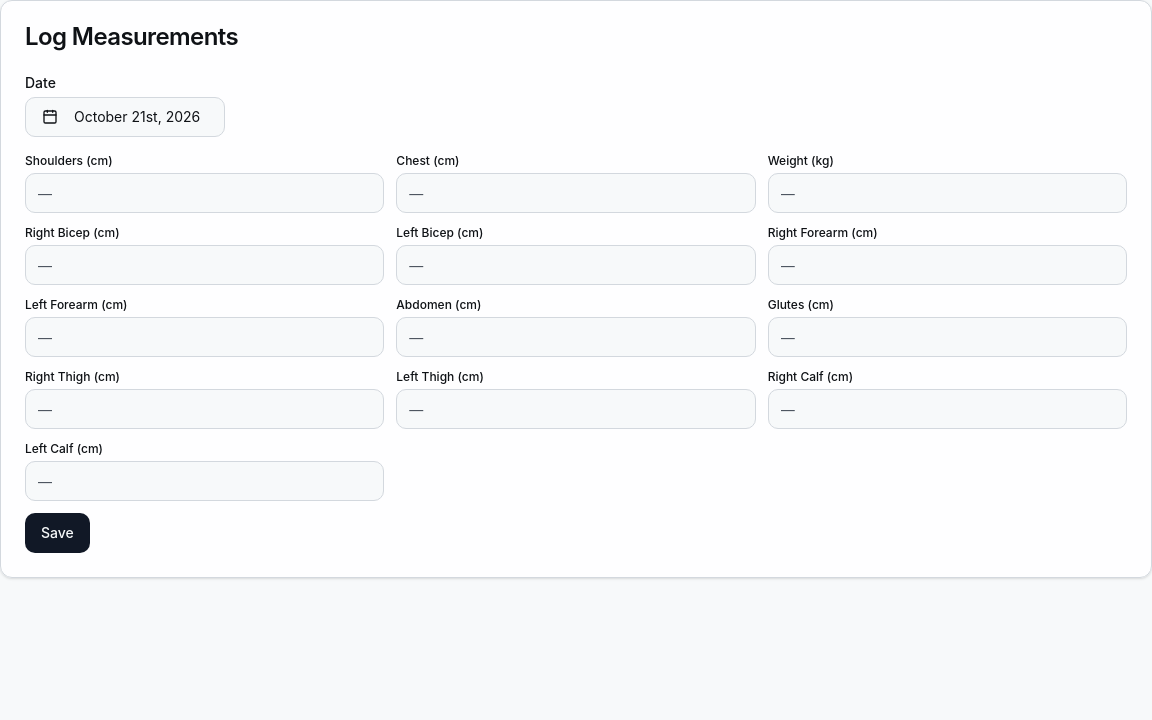
it: LogTab › shows success message after successful save
The image size is (1152, 720).
What coordinates should you click on to do the following:
click the button "Save"
I would click on:
 (57, 533)
Its box is [25, 513, 90, 553].
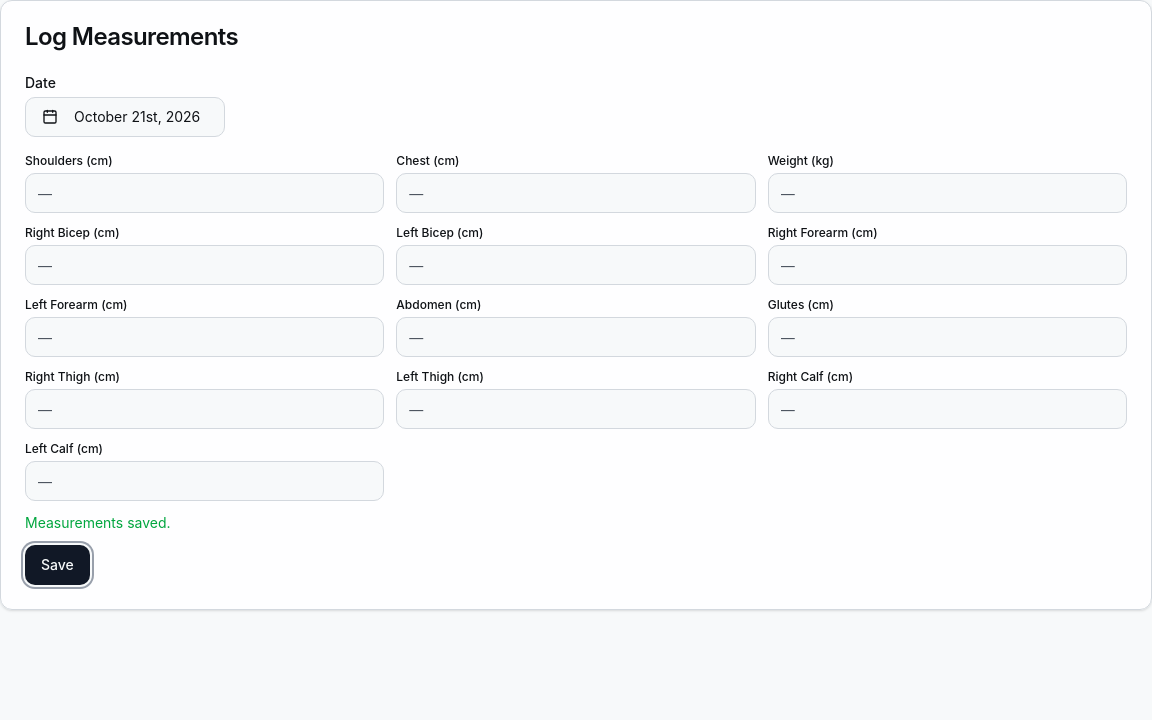
expect the text "Measurements saved." is shown: met, box [25, 514, 171, 531]
